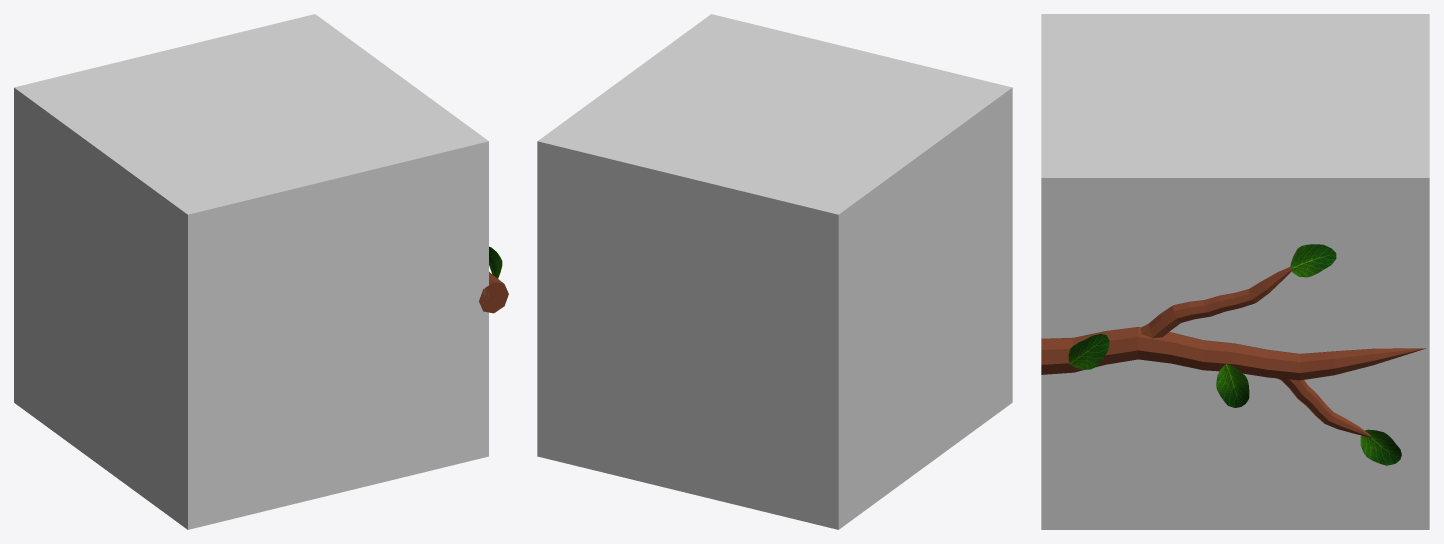
The model's file is branch_amida.fbx.
The picture shows the model from 3 angles, left to right: view 1: azimuth 30°, elevation 25°; view 2: azimuth 150°, elevation 25°; view 3: azimuth 270°, elevation 25°; orthographic projection. The views are drawn at different scales.
Parts seen in each view (by area): view 1: Cube, Cylinder; view 2: Cube; view 3: Cube, Cylinder, Cylinder.001, Cylinder.002, Plane.003, Plane.001, Plane.002, Plane.
Boxes of the visible parts, left/top/right/bottom form: Cube: left=14, top=14, right=488, bottom=529; Cylinder: left=479, top=272, right=508, bottom=313; Cube: left=537, top=14, right=1012, bottom=529; Cube: left=1041, top=14, right=1429, bottom=529; Cylinder: left=1041, top=327, right=1426, bottom=380; Cylinder.001: left=1141, top=267, right=1292, bottom=338; Cylinder.002: left=1277, top=378, right=1371, bottom=437; Plane.003: left=1290, top=244, right=1336, bottom=277; Plane.001: left=1216, top=364, right=1249, bottom=407; Plane.002: left=1068, top=334, right=1109, bottom=369; Plane: left=1360, top=429, right=1401, bottom=465.
Bounding box in the file's own units: 218 × 200 × 200.
